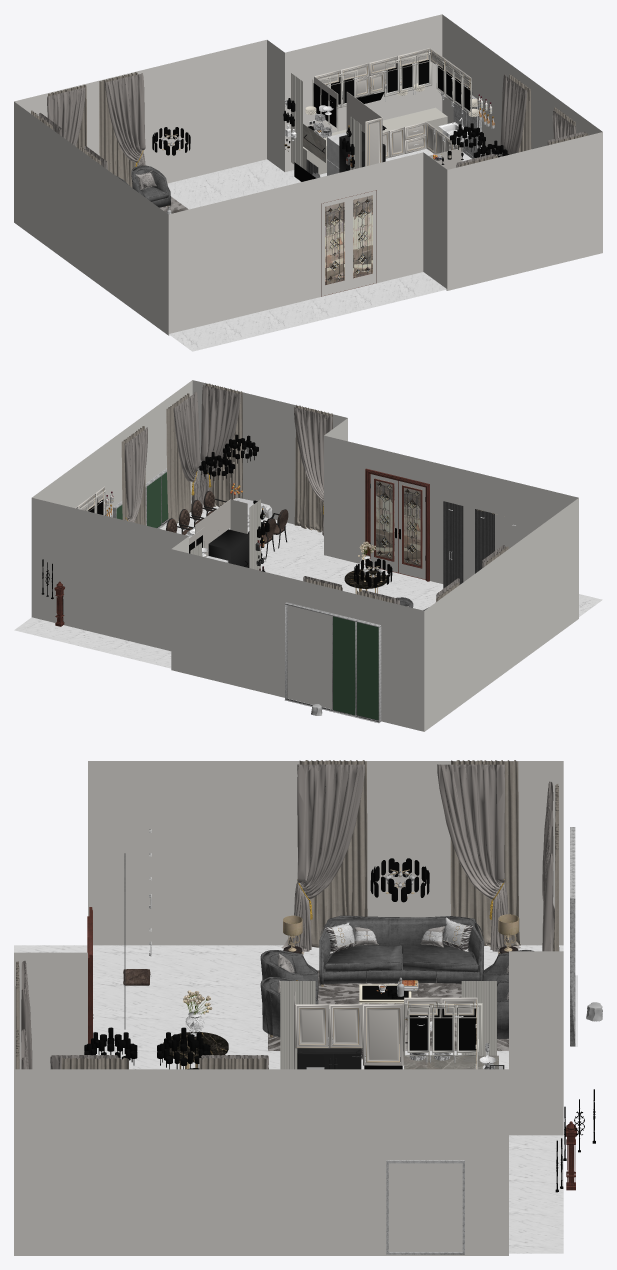
The model's file is phong-khach-bep-tan-co-dien.glb.
3 views of the same model, one above another, from view 1: azimuth 30°, elevation 25°; view 2: azimuth 150°, elevation 25°; view 3: azimuth 270°, elevation 25° (orthographic). The views are drawn at different scales.
Visible parts, largest first — view 1: Tuong, San, DOOR_CLASSIK_001, 094, 093, 098, 088, Box1578965893, Caracole_chair003, back_wall045, Shape971, AM109_018_005 (+6 smaller); view 2: Tuong, San, DOOR_CLASSIK_001, 114, VITROCSA_044, VITROCSA_041, 108, 104, 975, back_wall049, 112, 098 (+11 smaller); view 3: Tuong, San, Caracole_sofa, 080, 084, 078, 079, Shape944, Simla-Bordered-Starlight-Graphite-Rug, back_wall046, back_wall045, Shape969 (+22 smaller).
Part boxes in pixels (x1,y1,x2,y2): Tuong: [14, 14, 602, 335]; San: [167, 149, 471, 351]; DOOR_CLASSIK_001: [321, 190, 376, 296]; 094: [104, 73, 145, 165]; 093: [99, 72, 137, 187]; 098: [500, 74, 527, 154]; 088: [47, 87, 85, 146]; Box1578965893: [303, 107, 447, 174]; Caracole_chair003: [131, 165, 170, 207]; back_wall045: [291, 73, 302, 167]; Shape971: [365, 117, 382, 166]; AM109_018_005: [454, 102, 477, 158]; Tuong: [31, 380, 578, 731]; San: [14, 500, 602, 668]; DOOR_CLASSIK_001: [365, 468, 429, 581]; 114: [200, 385, 241, 507]; VITROCSA_044: [332, 616, 356, 716]; VITROCSA_041: [356, 622, 378, 721]; 108: [294, 407, 332, 535]; 104: [173, 392, 203, 512]; 975: [166, 393, 191, 523]; back_wall049: [443, 501, 463, 588]; 112: [294, 405, 332, 532]; 098: [124, 427, 147, 522]; Tuong: [14, 761, 563, 1255]; San: [14, 945, 563, 1253]; Caracole_sofa: [319, 915, 484, 984]; 080: [281, 764, 364, 952]; 084: [437, 764, 520, 953]; 078: [450, 760, 520, 946]; 079: [299, 760, 367, 947]; Shape944: [363, 1004, 403, 1065]; Simla-Bordered-Starlight-Graphite-Rug: [268, 970, 508, 1050]; back_wall046: [280, 981, 315, 1069]; back_wall045: [461, 981, 496, 1055]; Shape969: [295, 1004, 329, 1048].
Size of what is drawn, in the model's own units: 11.38 by 3.23 by 9.16.
119 materials, 64 textured.
